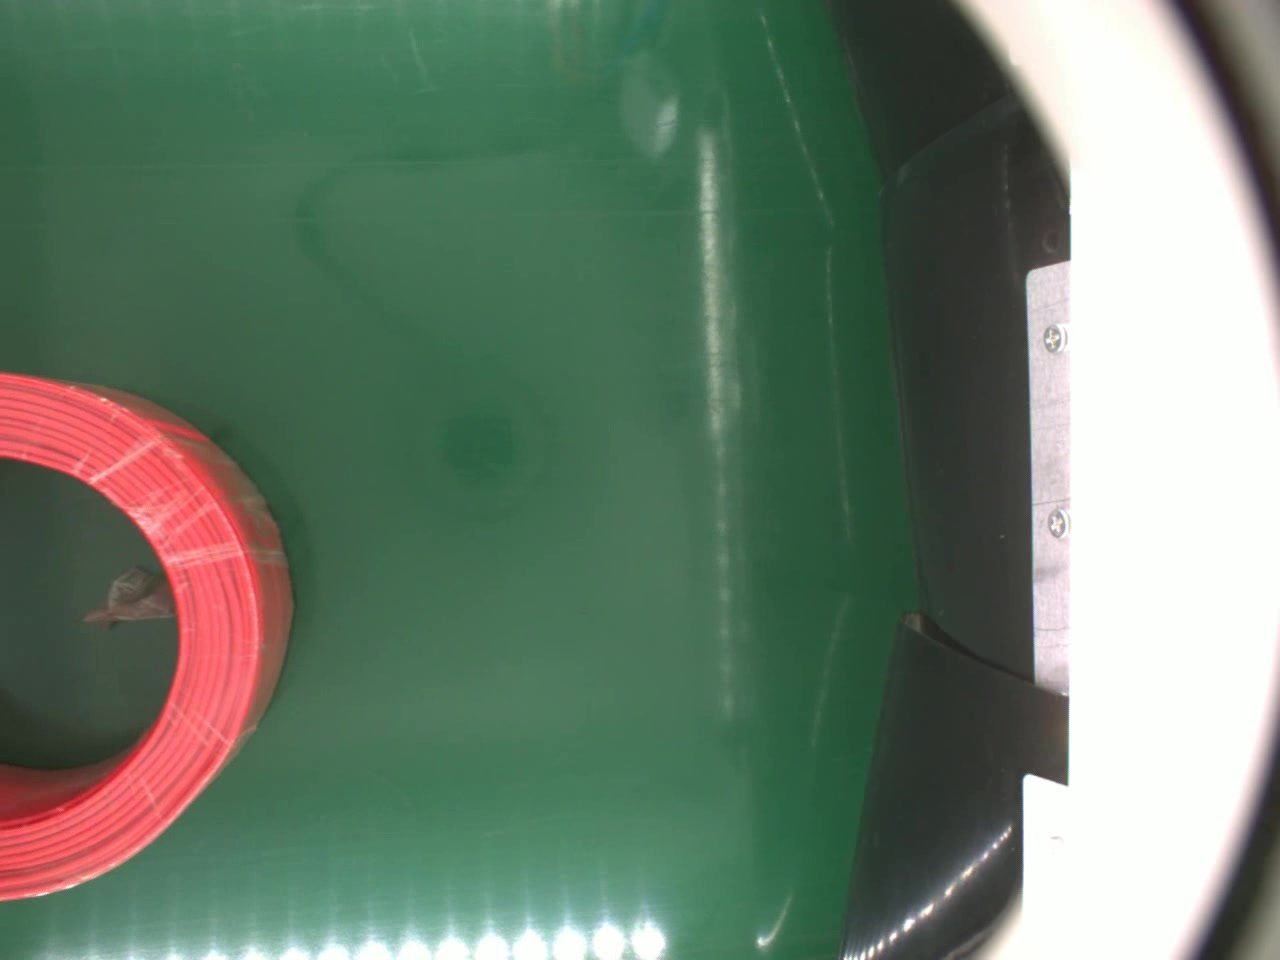red: (0, 373, 298, 896)
